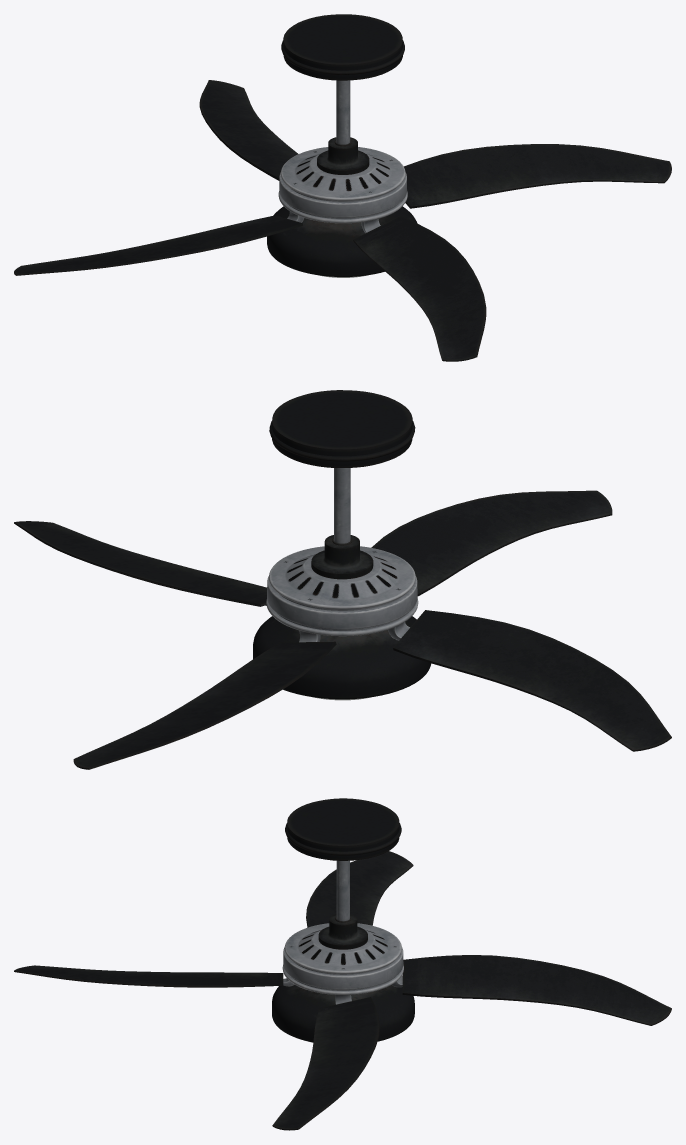
File: ceiling_fan.gltf
3 views of the same model, one above another, from view 1: azimuth 30°, elevation 25°; view 2: azimuth 150°, elevation 25°; view 3: azimuth 270°, elevation 25° (orthographic). The views are drawn at different scales.
Parts seen in each view (by area): view 1: ceiling_fan_blades, ceiling_fan; view 2: ceiling_fan_blades, ceiling_fan; view 3: ceiling_fan_blades, ceiling_fan.
Part boxes in pixels (left/top/right/bottom): ceiling_fan_blades: left=14, top=80, right=671, bottom=361; ceiling_fan: left=267, top=14, right=417, bottom=277; ceiling_fan_blades: left=14, top=490, right=671, bottom=769; ceiling_fan: left=253, top=390, right=431, bottom=700; ceiling_fan_blades: left=14, top=851, right=671, bottom=1130; ceiling_fan: left=272, top=798, right=414, bottom=1042.
Bounding box in the file's own units: 1.46 × 0.5163 × 1.46.
Materials: 1 (1 with a texture image).
